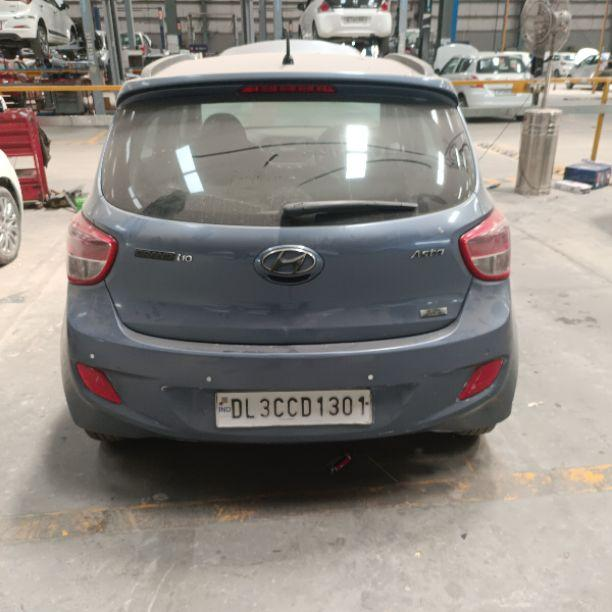license_plate: (213, 387, 373, 428)
